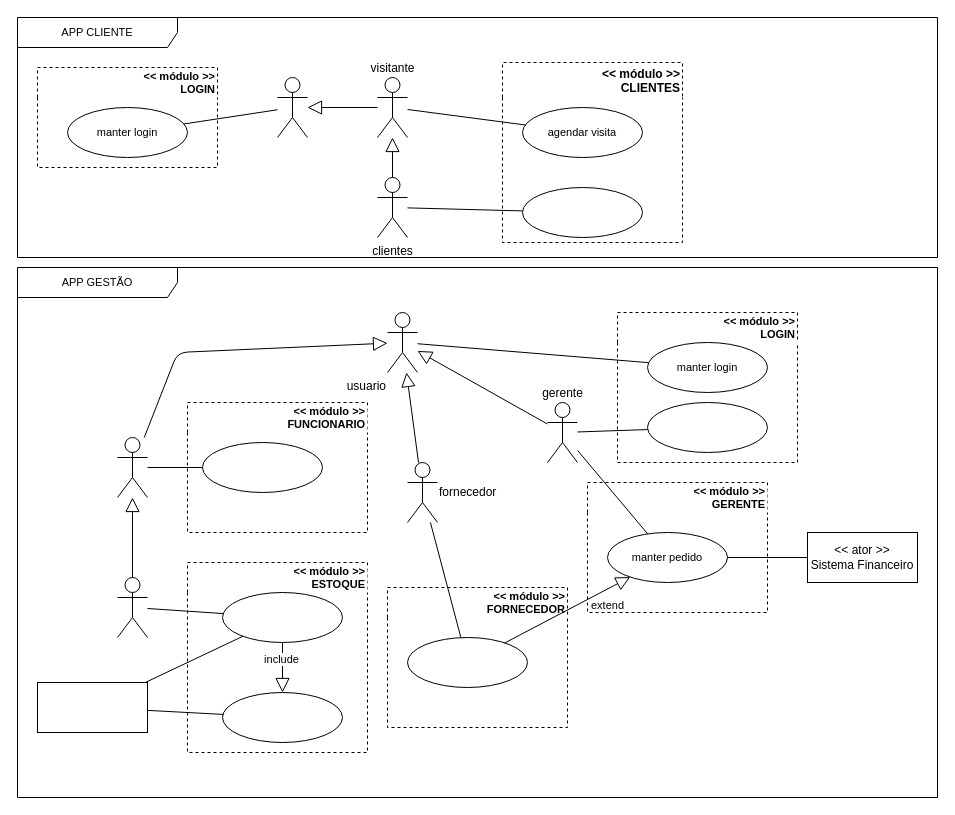
Some shapes in this 955 by 815 pixel diagram are drawn without their labels. Each missing label, with the centre of its shape:
"<< ator >> Sistema Estoque" belongs at point 92,707.
"Consultar Estoque" belongs at point 282,717.
"consultar pedido" belongs at point 467,662.
"cozinheiro" belongs at point 132,607.
"dar baixa em ingrediente" belongs at point 282,617.
"definir perfis de acesso" belongs at point 707,427.
"funcionario" belongs at point 132,467.
"registrar ponto" belongs at point 262,467.
"reserva de mesa" belongs at point 582,212.
"usuario app cliente" belongs at point 292,107.
